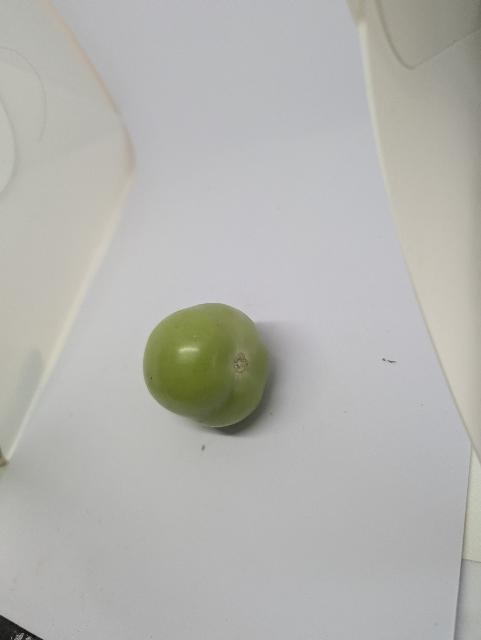green: (114, 293, 295, 435)
